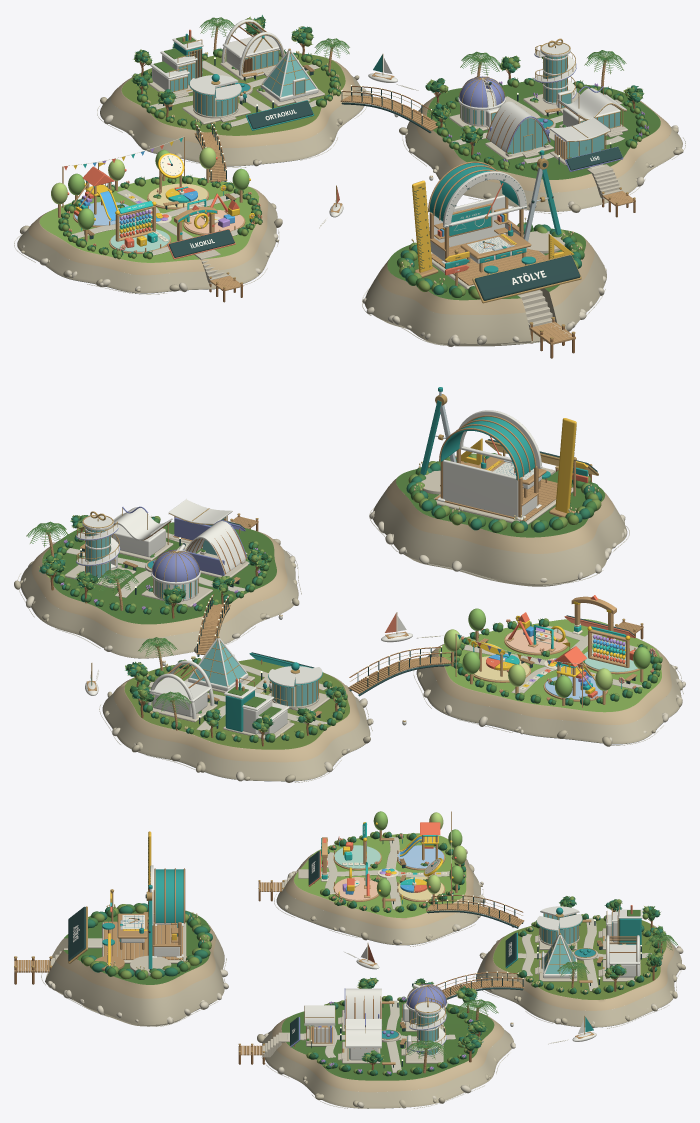
Rendered from ana-sayfa.glb.
3 renders of one model, top to bottom at view 1: azimuth 30°, elevation 25°; view 2: azimuth 150°, elevation 25°; view 3: azimuth 270°, elevation 25°, orthographic. The views are drawn at different scales.
Visible parts, largest first — view 1: stage|lise, landmark|atolye, stage|ilkokul, stage|ortaokul, static, arac|pergel; view 2: stage|lise, landmark|atolye, stage|ortaokul, stage|ilkokul, static, arac|pergel; view 3: stage|lise, landmark|atolye, stage|ortaokul, stage|ilkokul, static, arac|pergel.
Boxes of the visible parts, <box> form: stage|lise: <box>399,38,685,217</box>; landmark|atolye: <box>362,161,606,358</box>; stage|ilkokul: <box>14,136,282,302</box>; stage|ortaokul: <box>97,15,370,167</box>; static: <box>194,85,437,182</box>; arac|pergel: <box>523,150,565,253</box>; stage|lise: <box>14,499,301,658</box>; landmark|atolye: <box>369,410,629,586</box>; stage|ortaokul: <box>99,636,373,782</box>; stage|ilkokul: <box>413,595,685,746</box>; static: <box>196,594,451,696</box>; arac|pergel: <box>420,387,456,494</box>; stage|lise: <box>238,977,515,1108</box>; landmark|atolye: <box>14,831,228,1026</box>; stage|ortaokul: <box>473,896,685,1028</box>; stage|ilkokul: <box>258,811,485,946</box>; static: <box>426,894,524,999</box>; arac|pergel: <box>130,885,171,975</box>.
Bounding box in the file's own units: 50.96 × 10.71 × 54.57.
